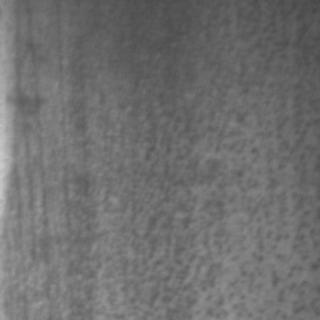pitted_surface: (80, 5, 312, 315)
